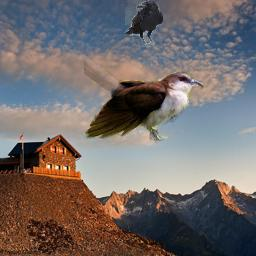Crow: (125, 0, 163, 47)
Cuckoo: (84, 26, 205, 144)
